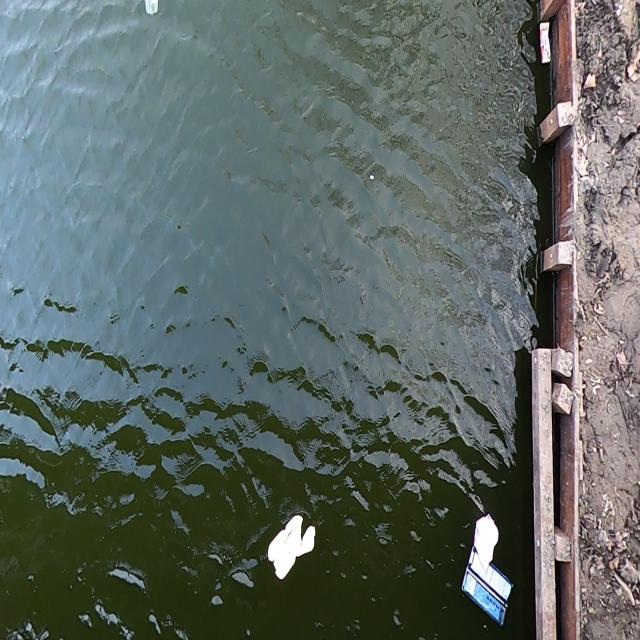Autre plastique: (453, 551, 514, 631), (537, 20, 554, 66)
